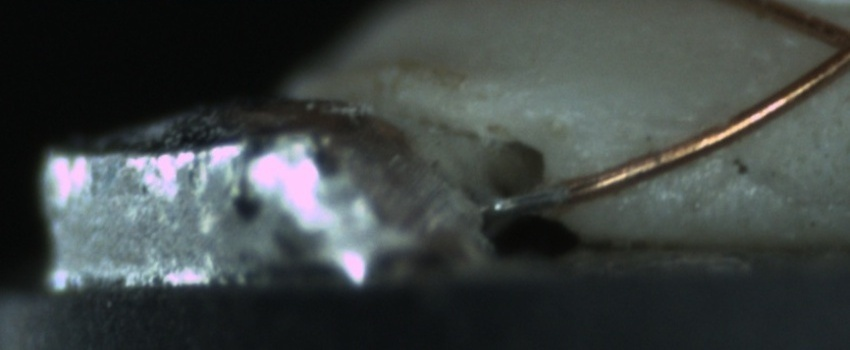CL: (806, 10, 850, 80)
TS: (490, 188, 564, 219)
